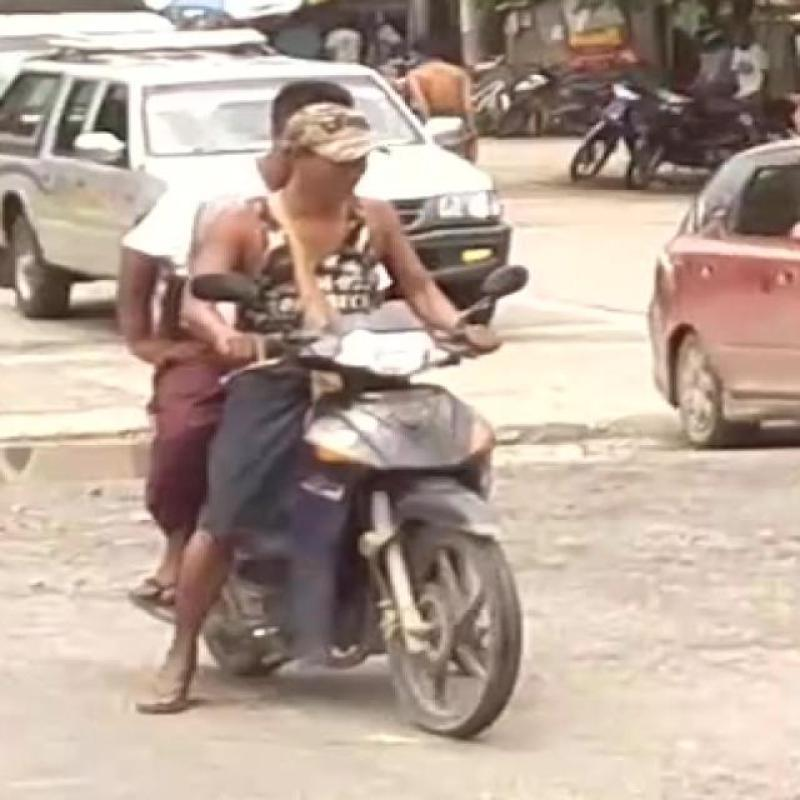nohelmet: (264, 85, 415, 225)
